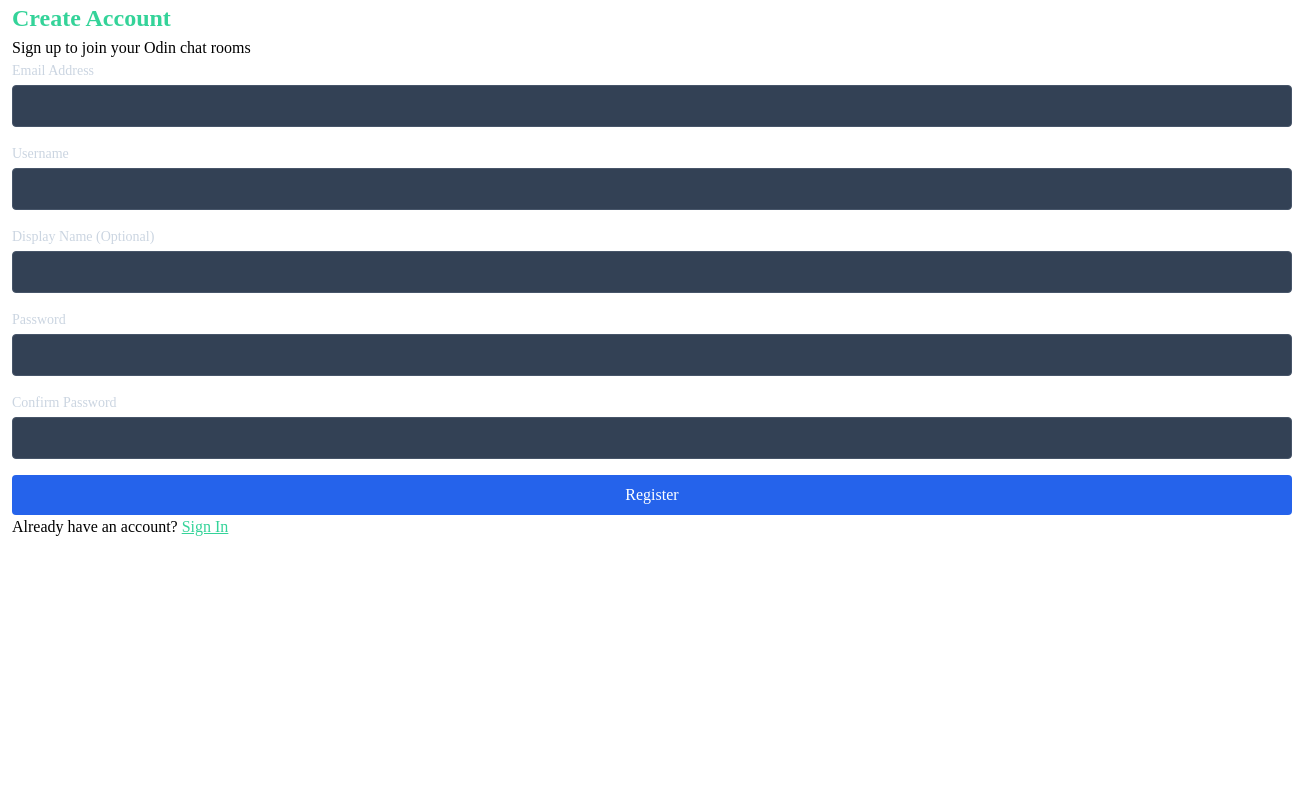
it: RegisterPage Component - Integration TDD Suite › should render explicit application alerts when server endpoint returns an identity error code
Type "duplicate@odin.com" into the field labelled "Email Address" at (652, 106), box [12,85,1292,127]
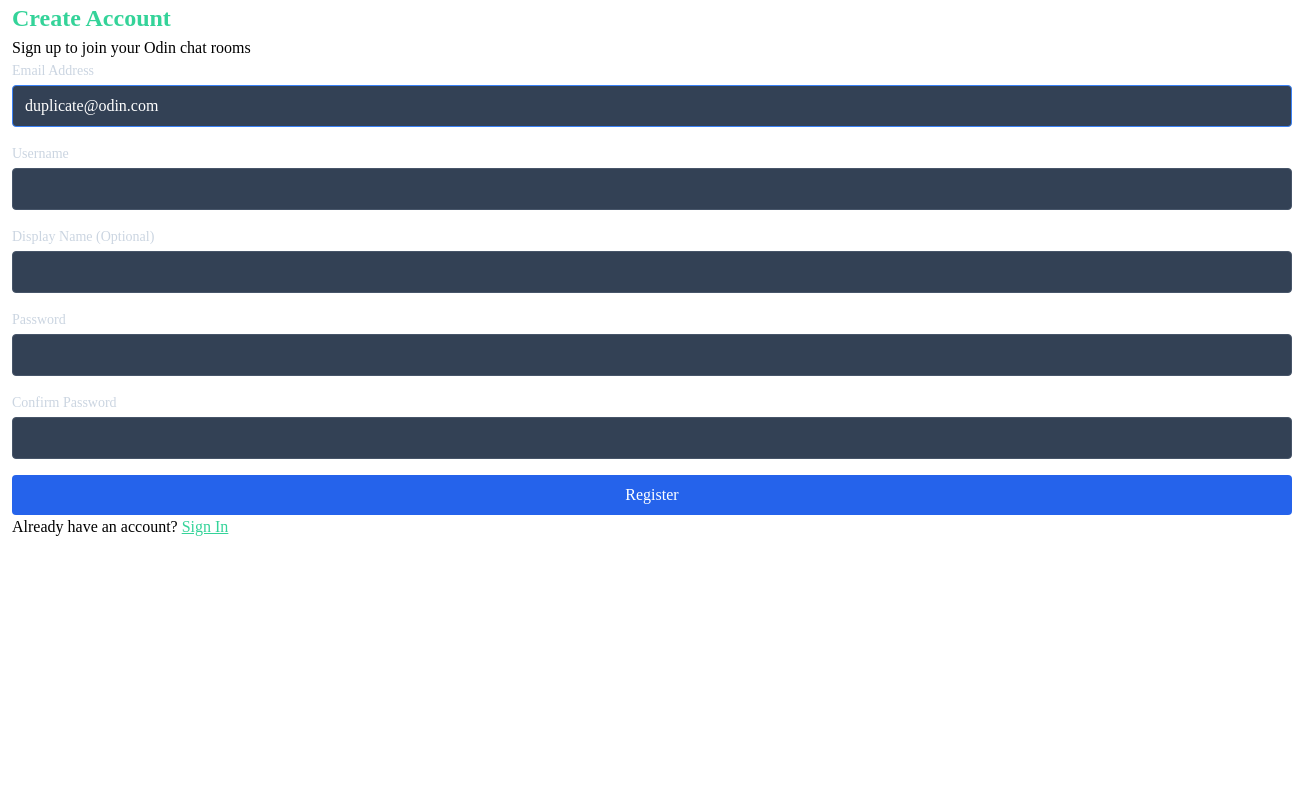
Type "duplicate_user" into the field labelled "Username" at (652, 189), box [12,168,1292,210]
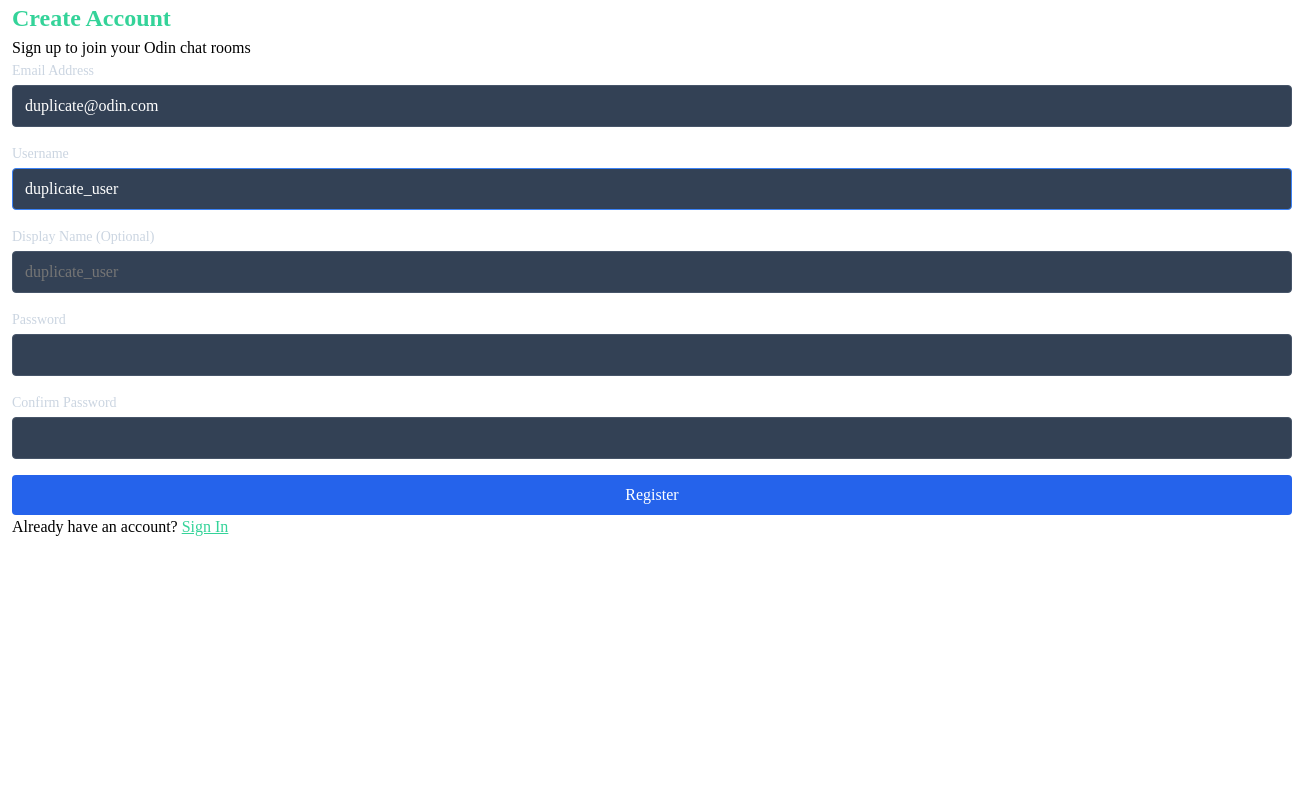
Type "password123" into the password field labelled "Password" at (652, 355), box [12,334,1292,376]
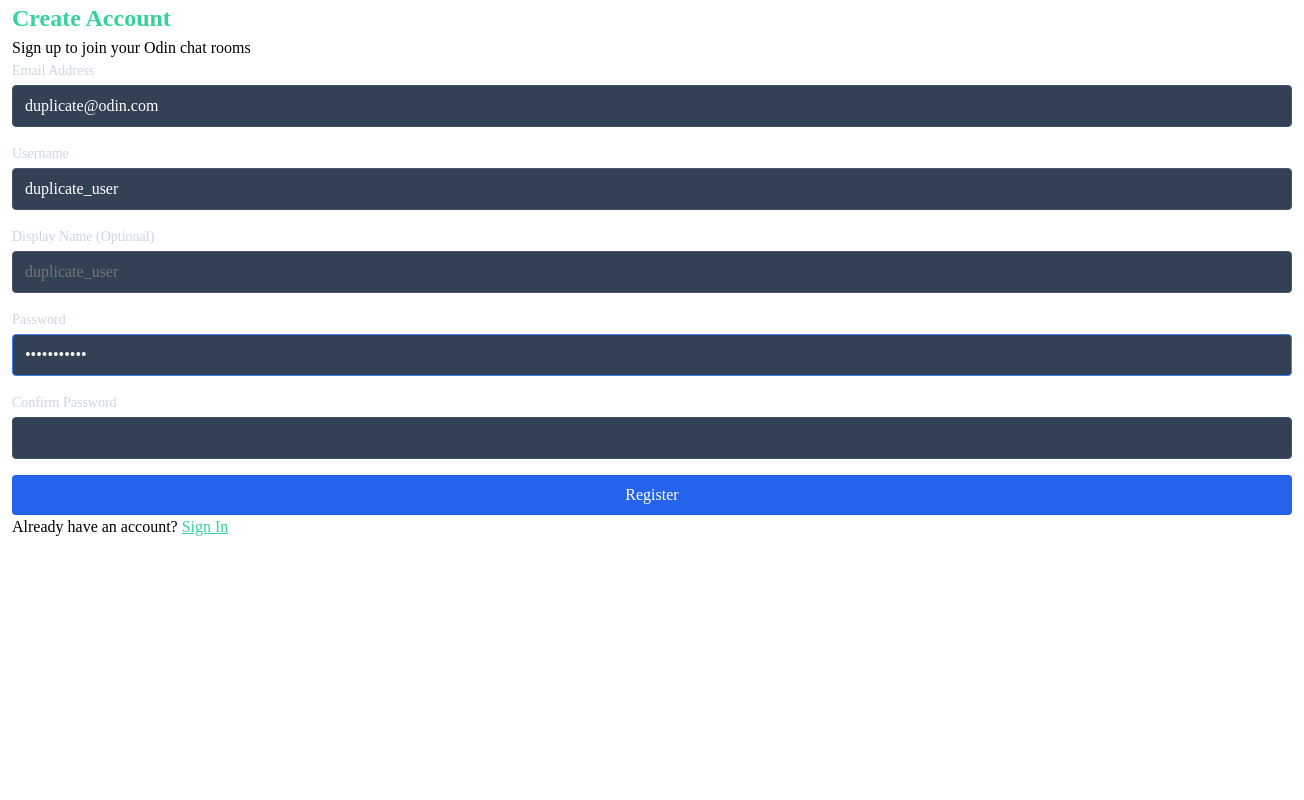
Type "password123" into the password field labelled "Confirm Password" at (652, 438), box [12,417,1292,459]
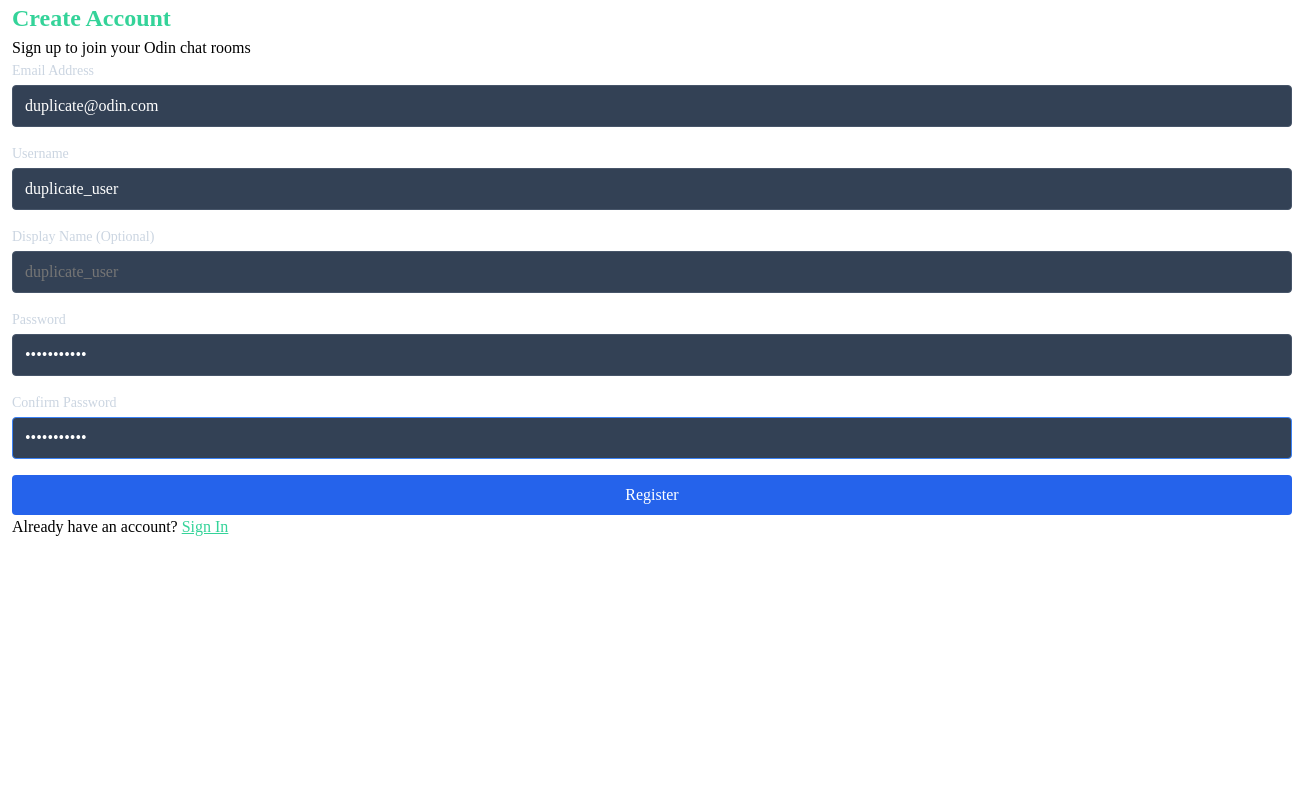
Click the button "Register" at (652, 495), box [12,475,1292,515]
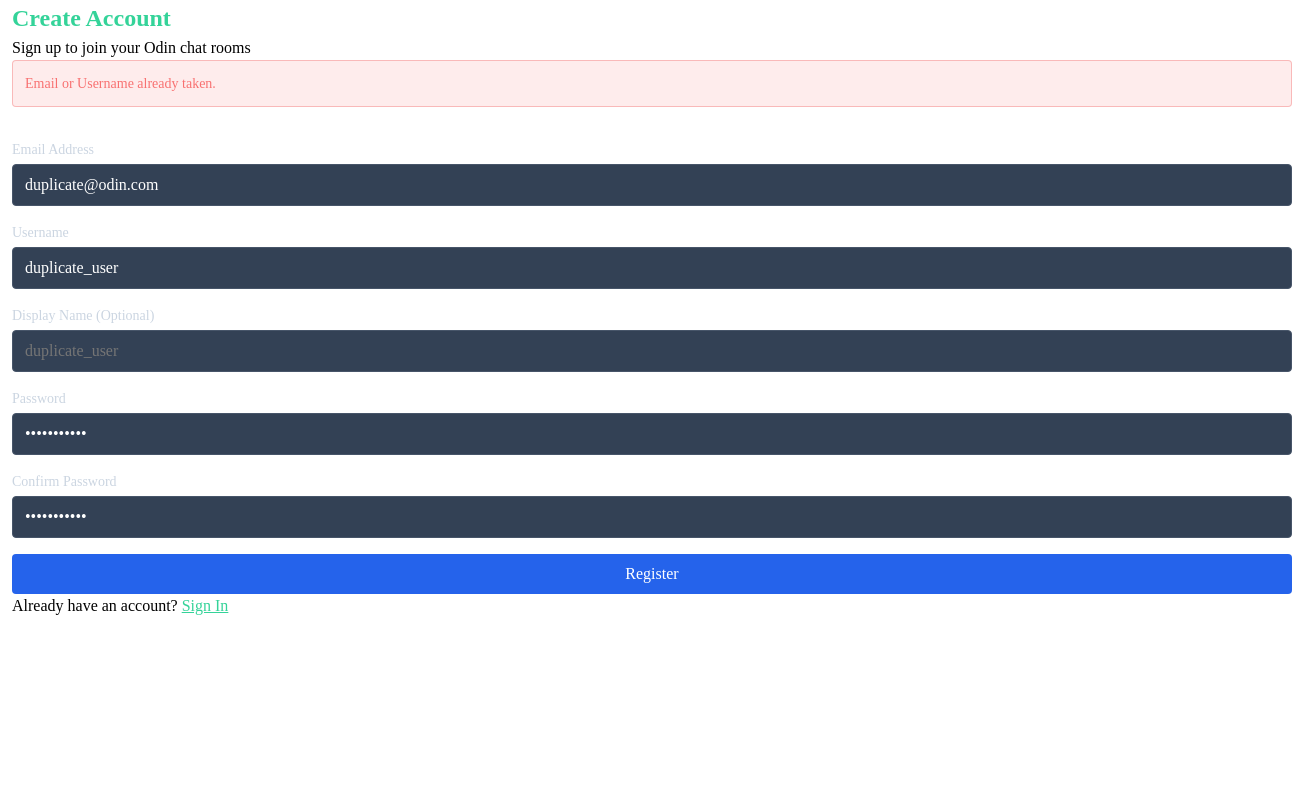
Check: the message reads "Email or Username already taken.", box [25,76,216,91]
